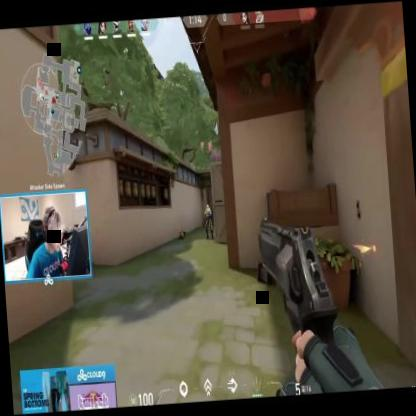enemy: (204, 203, 214, 241)
enemy_head: (206, 204, 210, 210)
